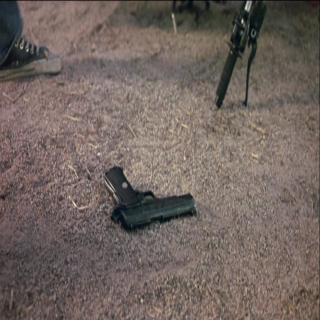gun: (101, 153, 200, 241)
